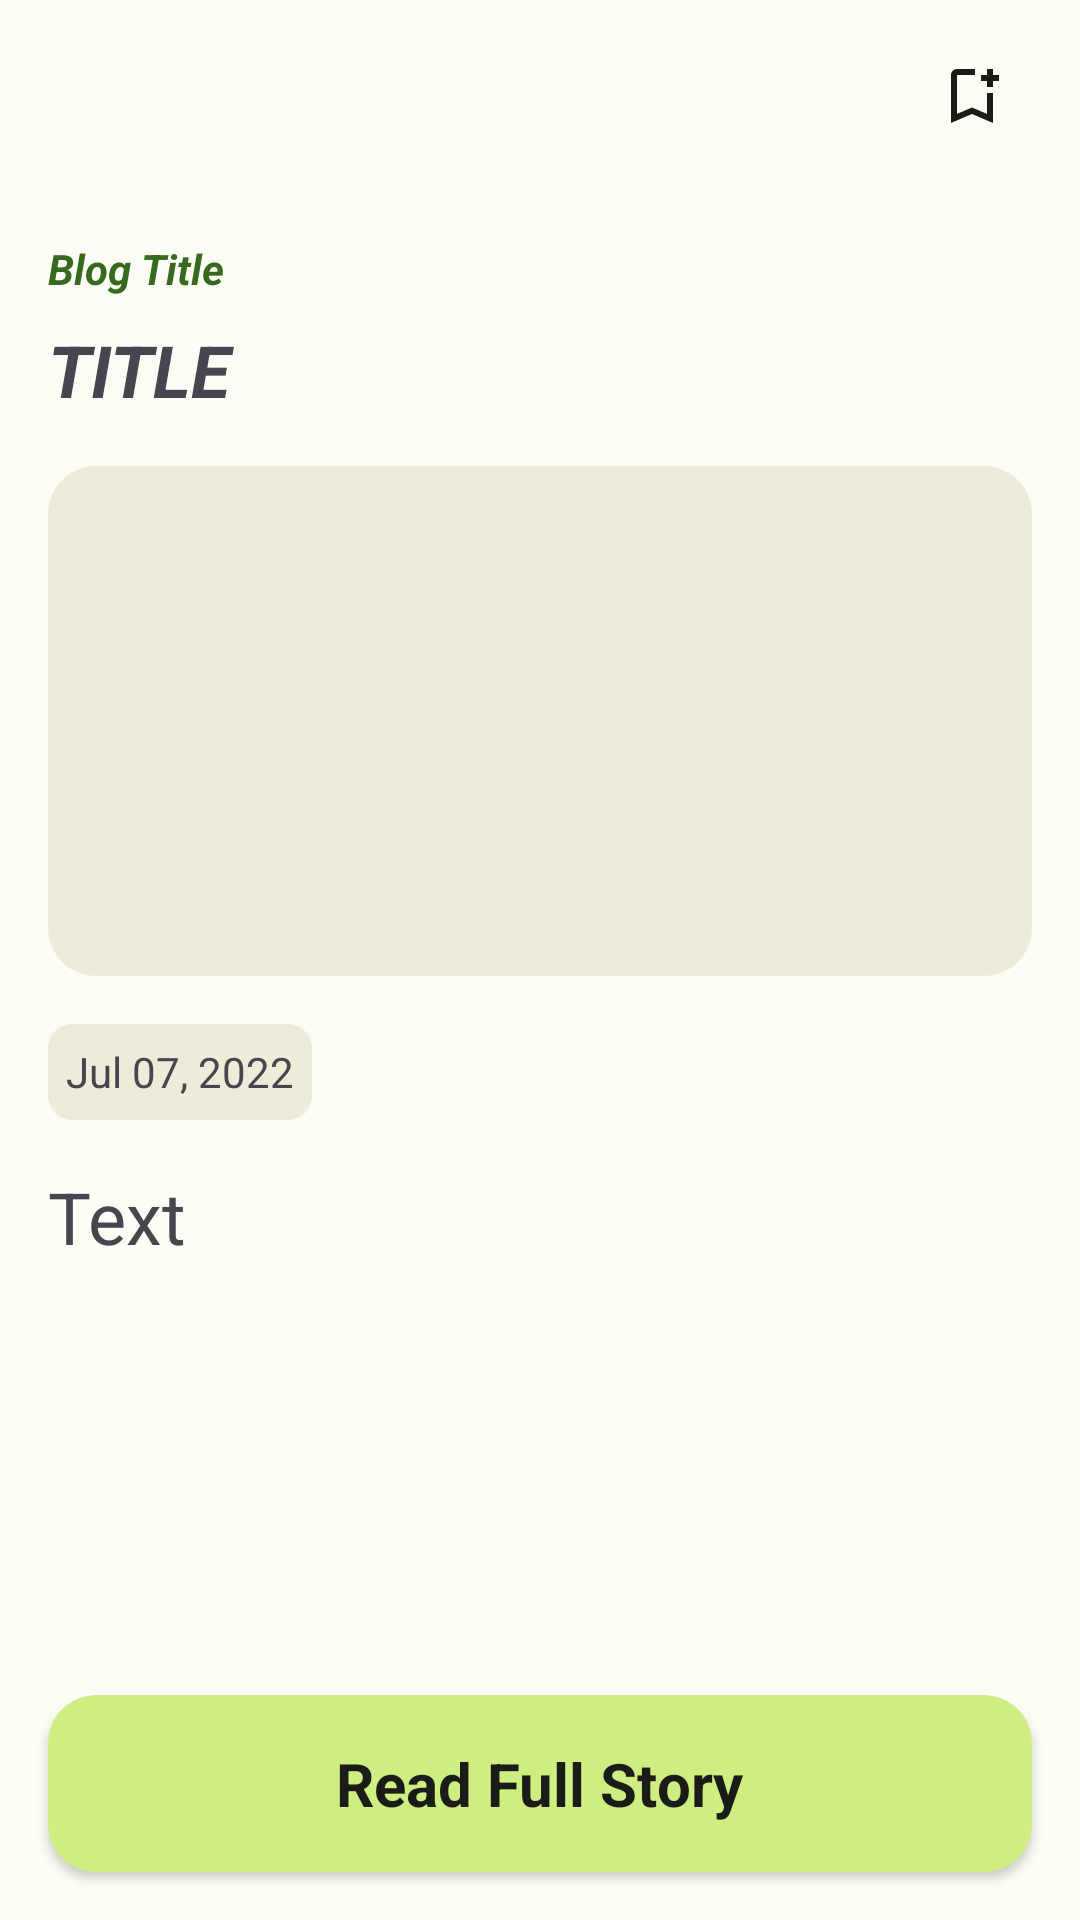

Named icons in this screenshot (1080px x 1920px) and their bounding boxes, (x1, y1, x2, y2):
bookmark add: (951, 69, 999, 123)
